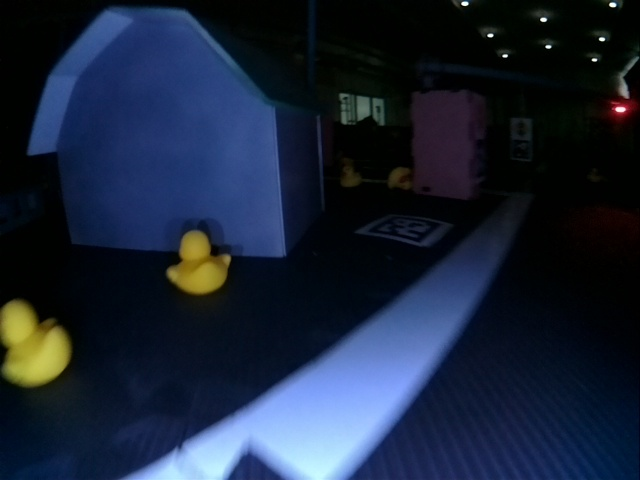Duckie: (1, 300, 69, 386), (169, 233, 230, 295), (389, 168, 410, 188), (341, 166, 359, 188), (588, 168, 599, 182)
QR code: (358, 216, 452, 246), (513, 141, 532, 158)
Traffic light: (610, 99, 633, 113)
